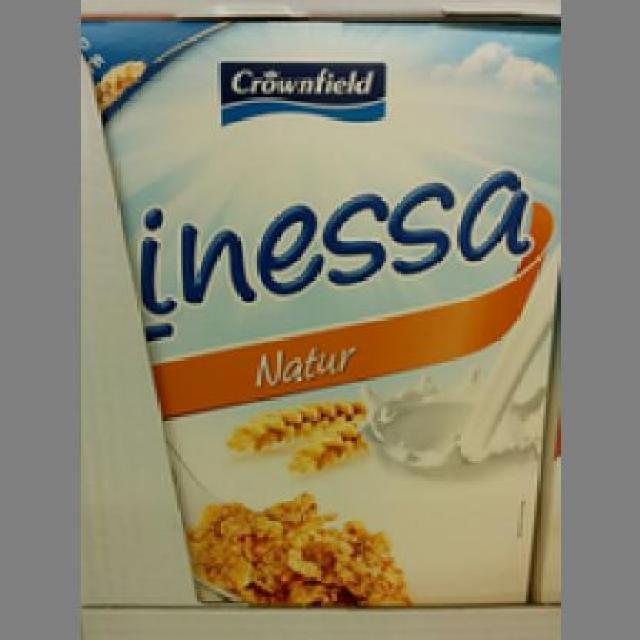Cereal: (80, 20, 560, 597)
